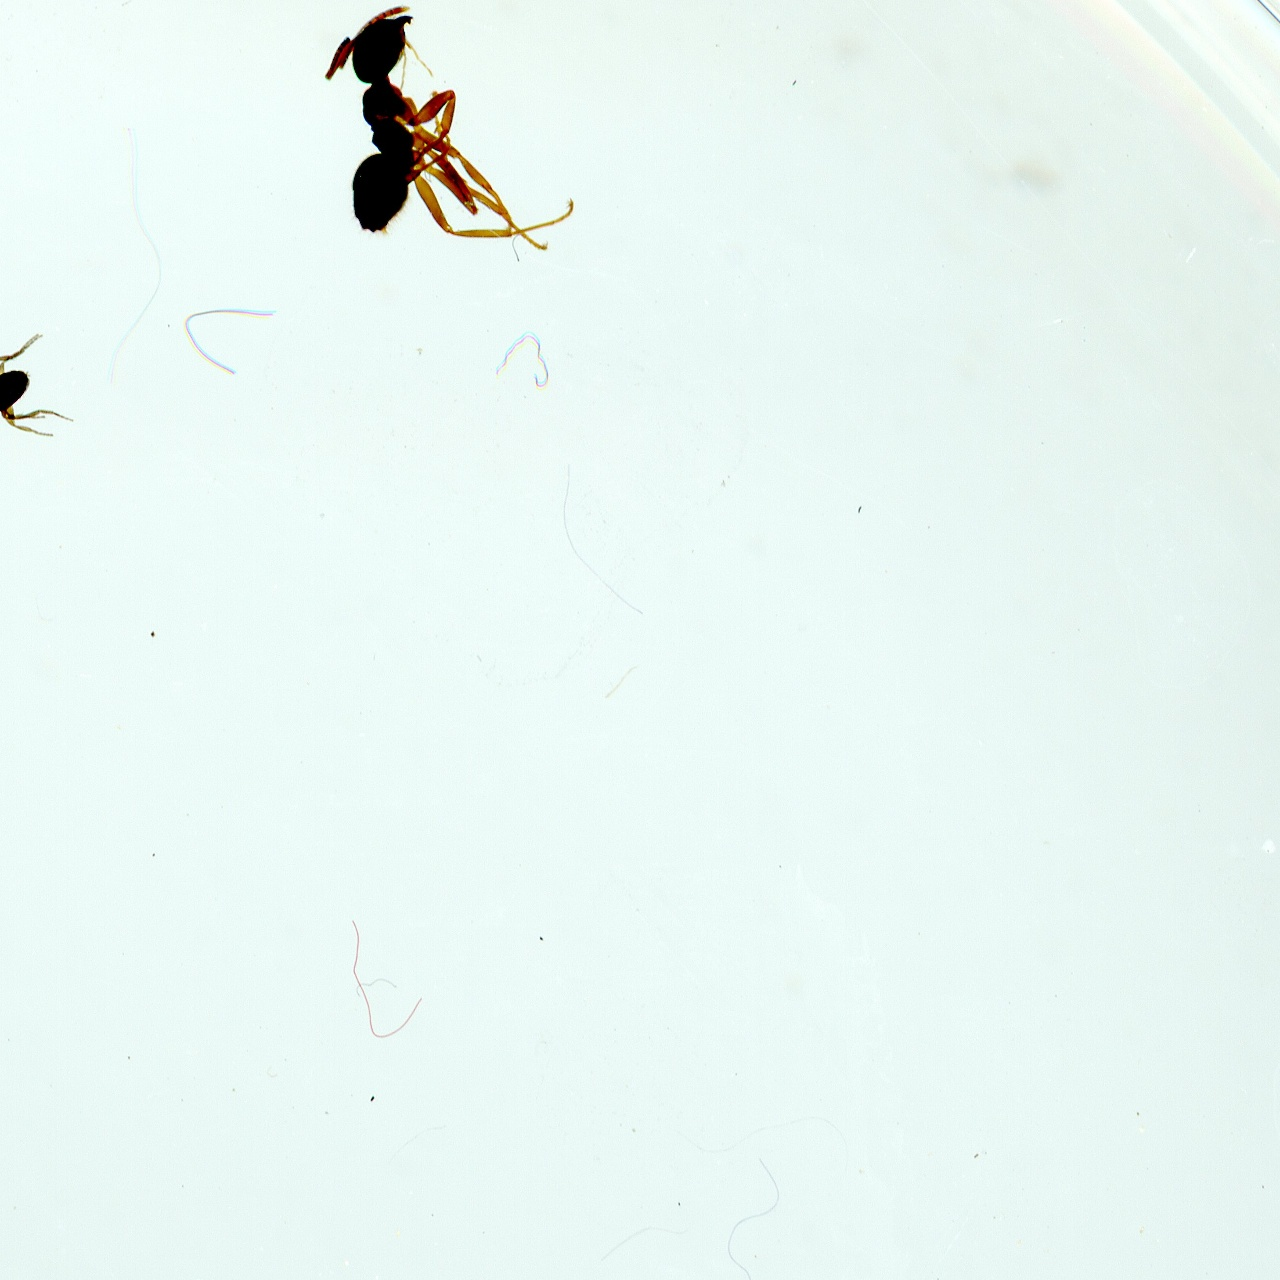arthropod: (267, 0, 597, 331), (0, 315, 88, 478)
